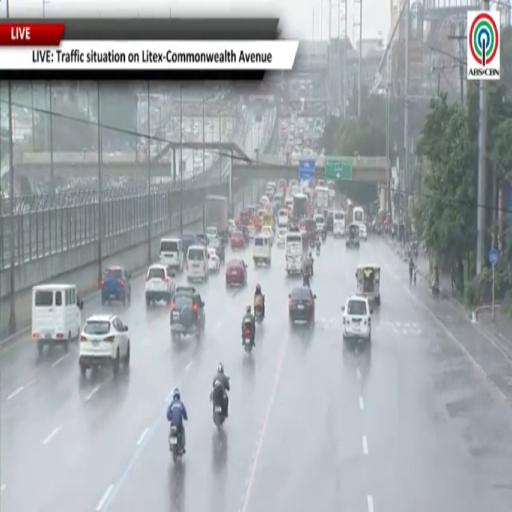bus: (353, 206, 364, 223)
car: (79, 315, 130, 376), (170, 286, 205, 341), (342, 296, 372, 342), (146, 264, 175, 306), (101, 267, 130, 305), (289, 286, 315, 325), (186, 245, 209, 282), (226, 260, 247, 287), (208, 238, 224, 263), (182, 234, 197, 255), (208, 247, 220, 273), (230, 230, 245, 249), (261, 226, 274, 244), (277, 228, 287, 247), (205, 227, 217, 239), (228, 219, 236, 235), (360, 224, 367, 241)
motorcycle: (211, 381, 225, 429), (170, 426, 183, 462), (243, 325, 253, 351), (255, 304, 263, 323), (305, 262, 313, 278), (432, 283, 439, 297), (303, 275, 310, 287), (321, 229, 327, 242), (316, 243, 321, 256), (310, 238, 314, 248)
truck: (203, 196, 229, 243), (292, 194, 308, 219), (315, 186, 329, 212)
